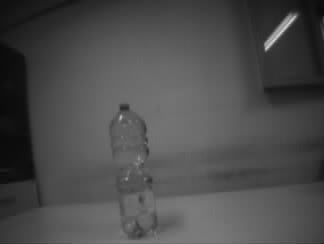Bottle: (108, 104, 161, 239)
